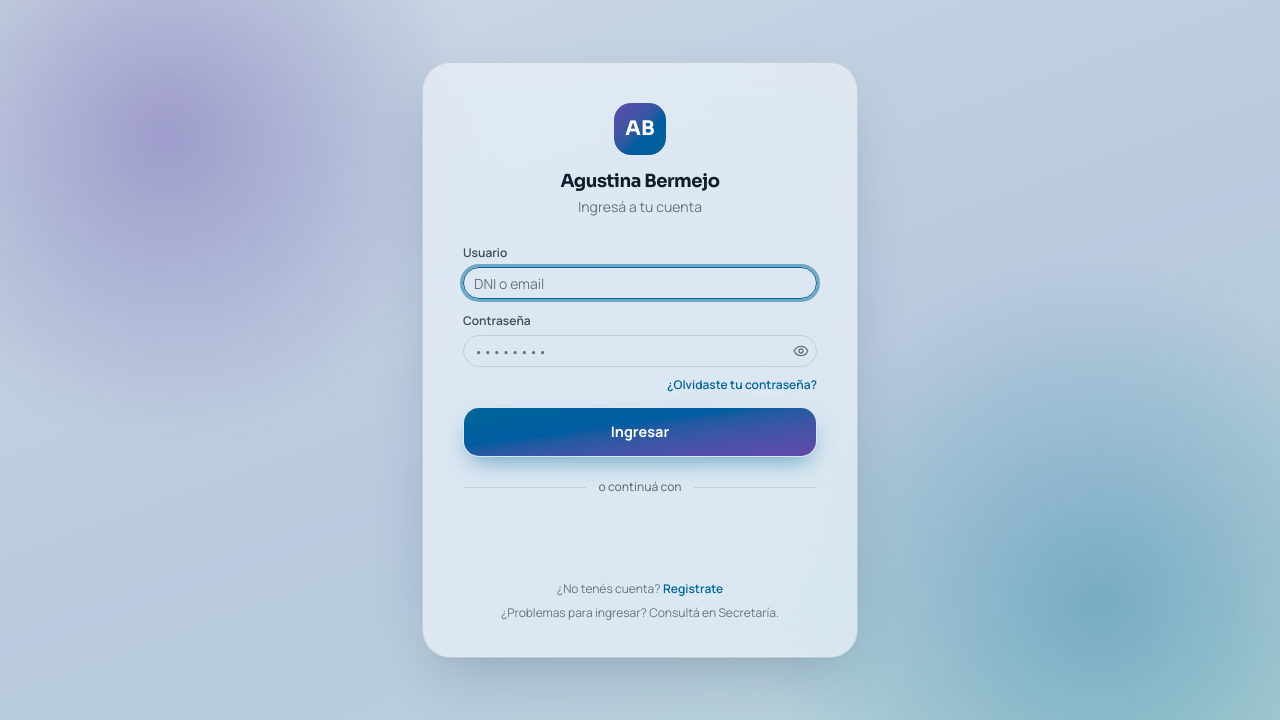
Test case: Login › muestra "Usuario o contraseña incorrectos" cuando el backend rechaza el login
Type "prueba.login" into the field with placeholder "DNI o email" at (640, 283), box top-left (463, 267), bottom-right (817, 299)
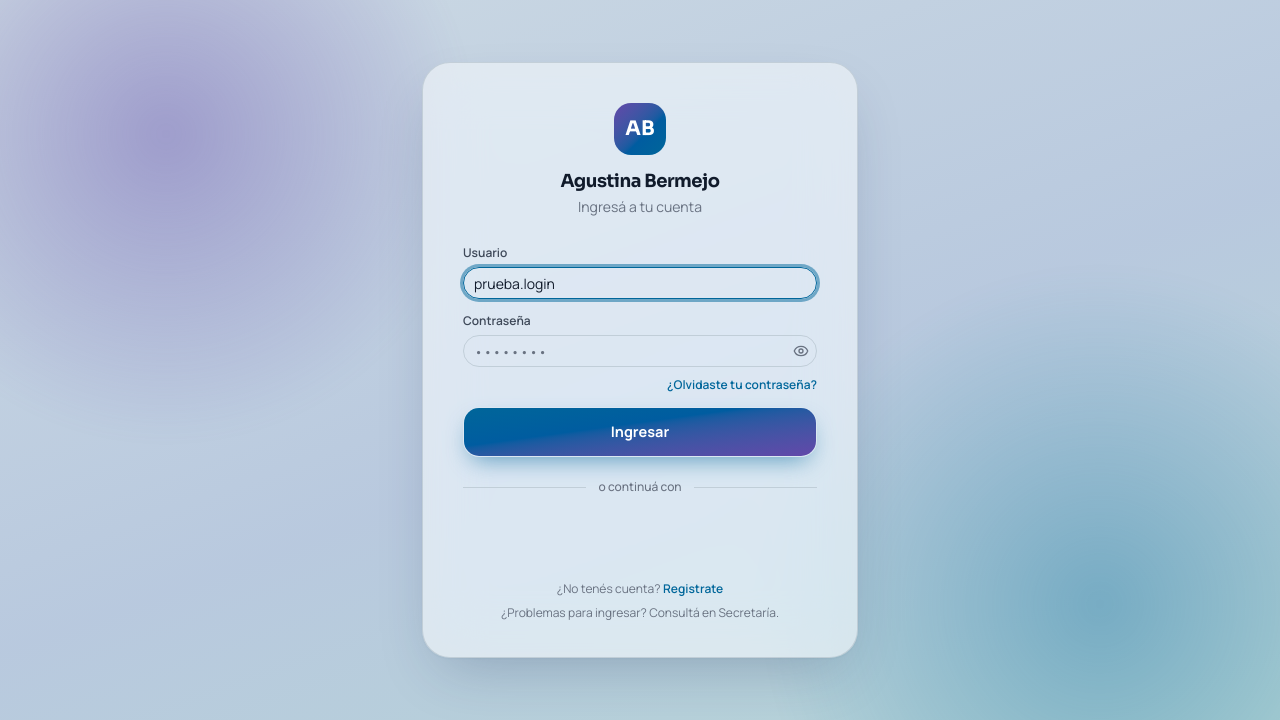
Type "mal" into the password field with placeholder "••••••••" at (640, 351), box top-left (463, 335), bottom-right (817, 367)
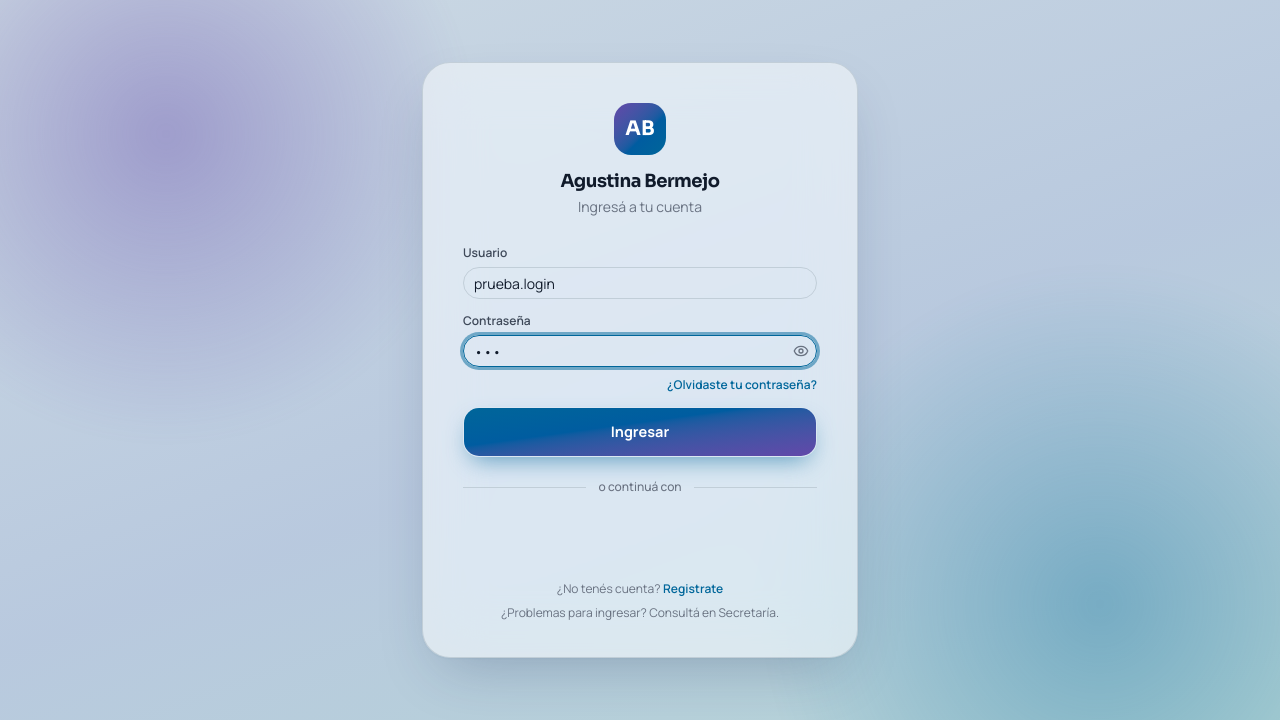
Click the button "Ingresar" at (640, 432), box top-left (463, 407), bottom-right (817, 457)
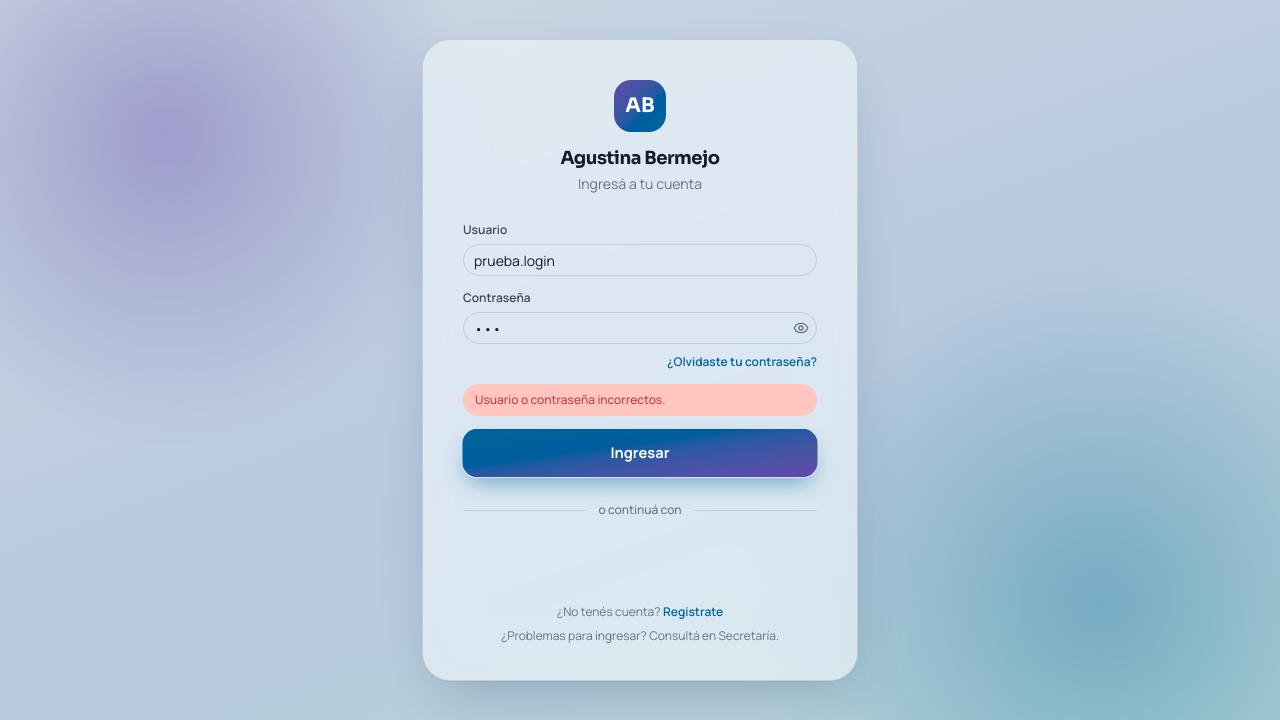
expect the text "Usuario o contraseña incorrectos." is shown: met, box top-left (463, 384), bottom-right (817, 416)
